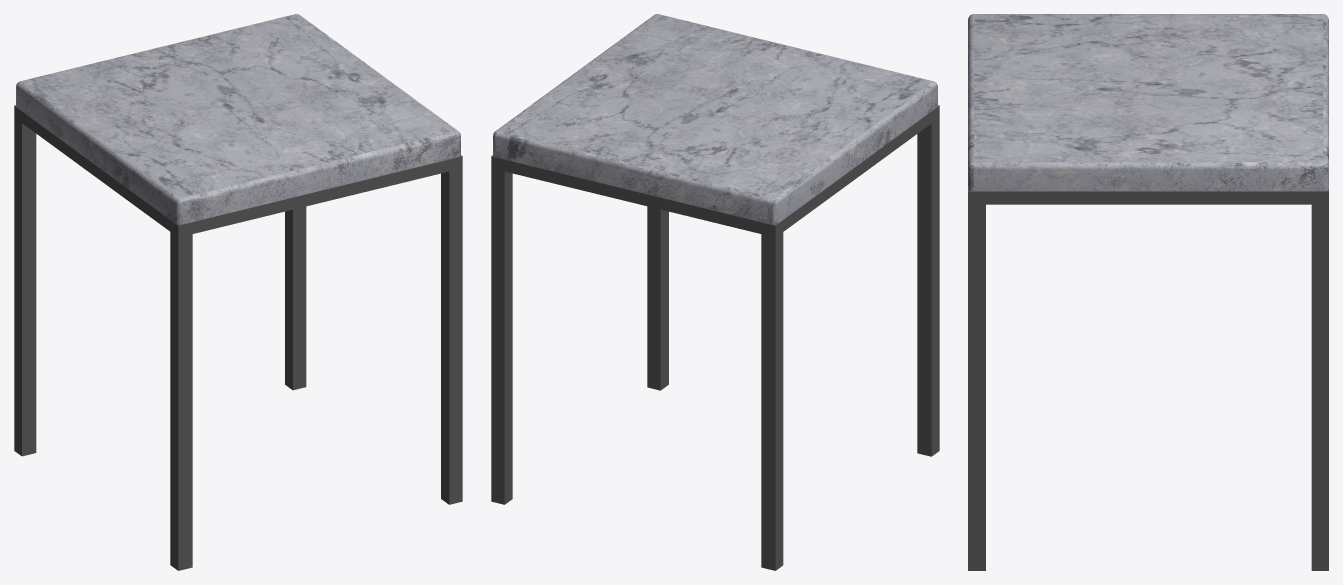
The model's file is Table.fbx.
The picture shows the model from 3 angles, left to right: view 1: azimuth 30°, elevation 25°; view 2: azimuth 150°, elevation 25°; view 3: azimuth 270°, elevation 25°; orthographic projection. The views are drawn at different scales.
Parts seen in each view (by area): view 1: TableTop, Leg3, Leg1, Leg4, TableBase, Leg2; view 2: TableTop, Leg1, Leg3, Leg2, TableBase, Leg4; view 3: TableTop, Leg4, Leg2, TableBase.
Part boxes in pixels (<box>): TableTop: <box>16,14,460,224</box>; Leg3: <box>170,232,192,570</box>; Leg1: <box>14,118,36,456</box>; Leg4: <box>441,168,462,504</box>; TableBase: <box>14,105,462,237</box>; Leg2: <box>285,206,306,390</box>; TableTop: <box>493,14,937,224</box>; Leg1: <box>761,232,783,570</box>; Leg3: <box>917,118,939,456</box>; Leg2: <box>491,168,512,504</box>; TableBase: <box>491,105,939,237</box>; Leg4: <box>647,206,668,390</box>; TableTop: <box>968,14,1328,191</box>; Leg4: <box>968,204,985,570</box>; Leg2: <box>1311,204,1328,570</box>; TableBase: <box>968,189,1328,204</box>.
Bounding box in the file's own units: 2.5 × 3.11 × 2.5.
